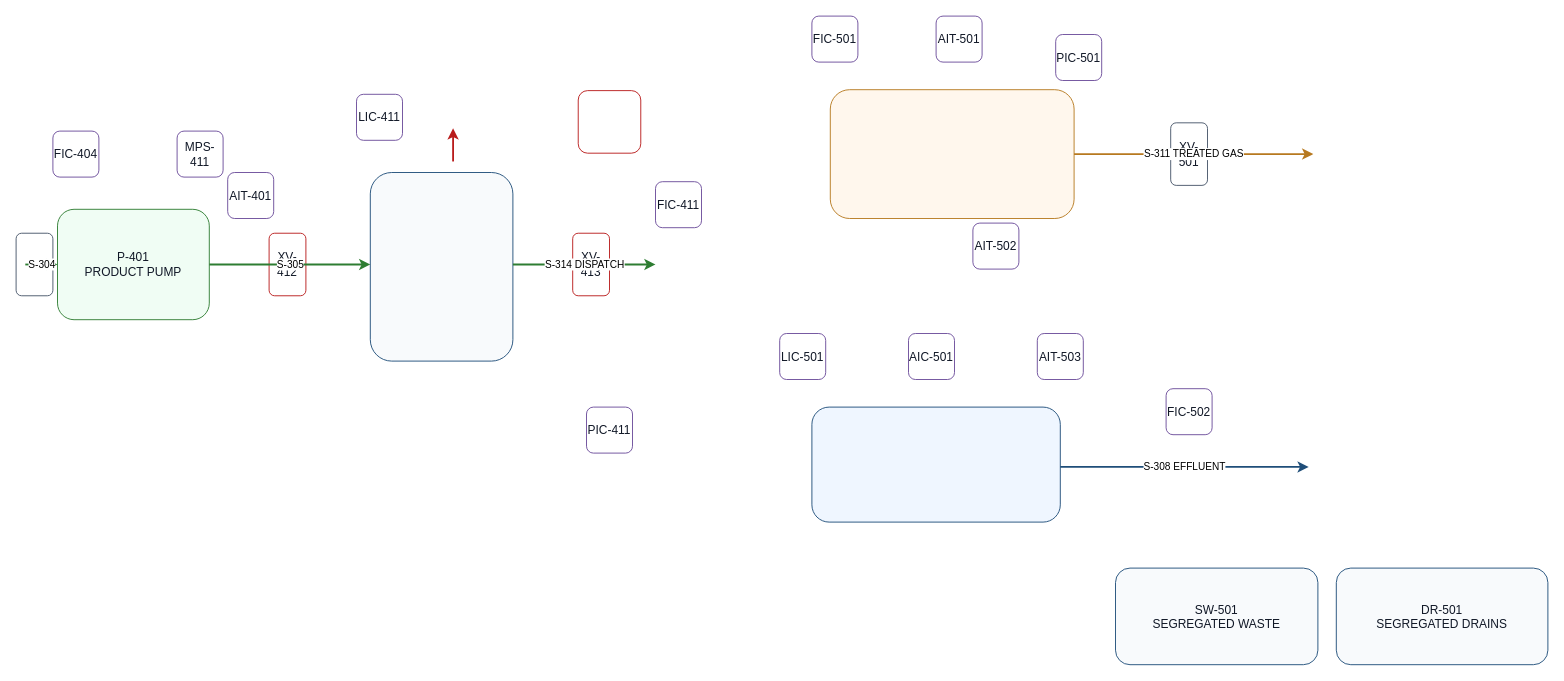
This 1564x681 diagram has some shape labels left out. Each missing label, with the centre of its shape:
LSHH-411: the point at 609,121
TK-401 METHANOL TANK: the point at 441,266
U-501 OFF-GAS COLLECTION / / TREATMENT INTERFACE: the point at 951,153
W-501 WASTEWATER COLLECTION: the point at 935,464
XV-411: the point at 34,264
